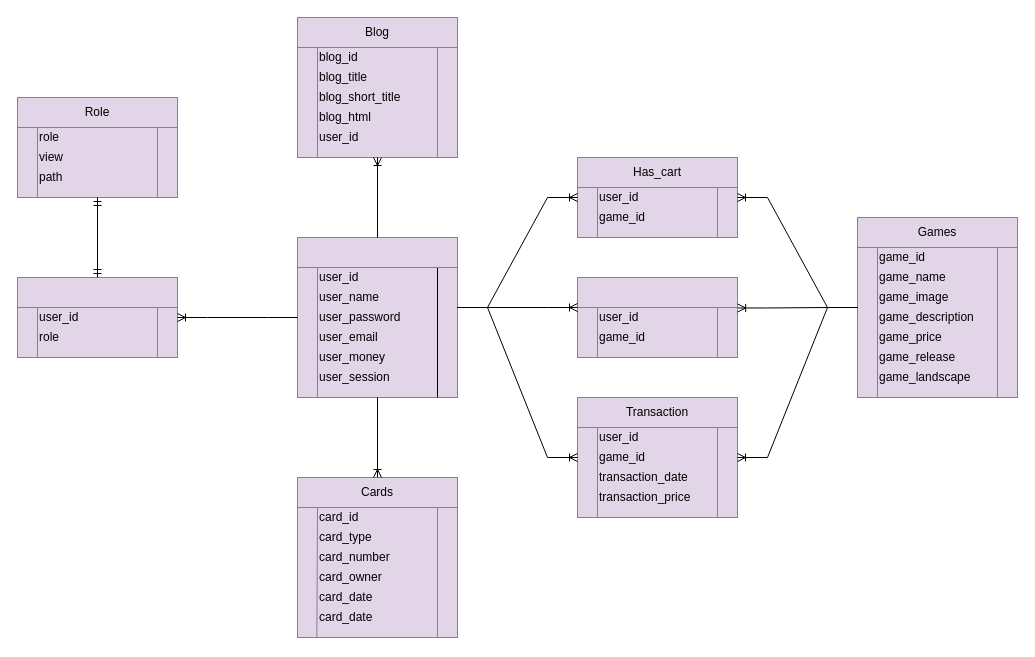
The diagram is 1035 pixels wide and 657 high, and some of its shapes have lost their labels. Here are the shapes that lost their labels. From the top down, the centre of each, then its label:
At (x=377, y=252): "Users".
At (x=97, y=292): "Has_role".
At (x=657, y=292): "Has_game".
